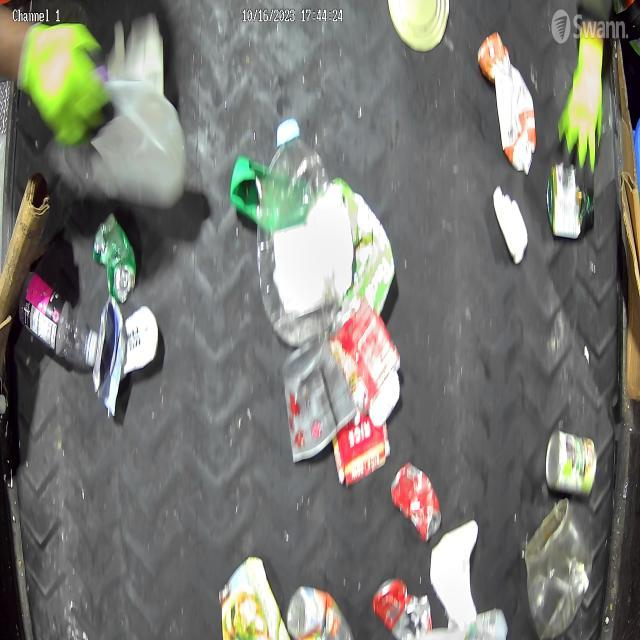can: (278, 346, 359, 460), (88, 212, 142, 304), (390, 461, 443, 542), (285, 579, 353, 640), (545, 422, 599, 498), (372, 576, 436, 638)
plastic_bottle: (254, 119, 353, 344), (21, 273, 100, 371)
